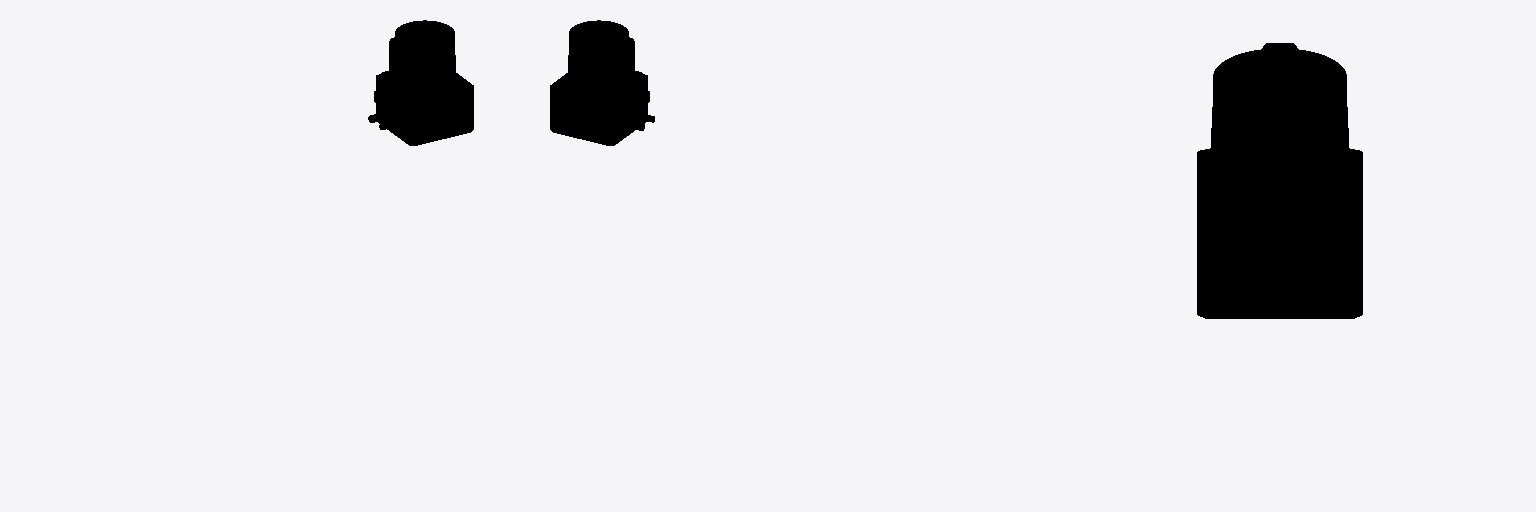
The robot description file, URDF, robot "myfirst":
<?xml version="1.0"?>
<robot name="myfirst">

  <material name="blue">
    <color rgba="0 0 1 0.75"/>
  </material>
  <material name="black">
    <color rgba="0 0 0 1"/>
  </material>

  <link name="odom">
    <visual>
      <geometry>
	<cylinder length="0" radius="0"/>
      </geometry>
    </visual>
  </link>
  
  <link name="base_link">
    <visual>
      <geometry>
	<mesh filename="package://testing/meshes/UGV.stl"/>
      </geometry>
      <origin xyz="0 0 0" rpy="0 0 0"/>      
      <material name="blue"/>
    </visual>
  </link>

  <link name="hokuyo_link">
    <visual>
      <geometry>
	<mesh filename="package://testing/meshes/Hokuyo.stl"/>
      </geometry>
      <origin xyz="0 0 0" rpy="0 0 0"/>      
      <material name="black"/>
    </visual>
  </link>

  <link name="laser">
    <visual>
      <geometry>
	<cylinder length="0" radius="0"/>
      </geometry>
    </visual>
  </link>
  
  <!-- _________________JOINTS____________________ -->

  <joint name="world_to_body" type="planar">
    <origin xyz="0 0 0.101" rpy="0 0 0" />
    <parent link="odom"/>
    <child link="base_link"/>

    <axis xyz="0 0 1"/>
  </joint>

  <joint name="robot_to_laser" type="fixed">
    <origin xyz="0.3 0 0.1" rpy="0 0 0" />
    <parent link="base_link"/>
    <child link="hokuyo_link"/>
  </joint>

  <joint name="Hokuyo_to_laser" type="fixed">
    <origin xyz="0 0 0.05" rpy="0 0 0" />
    <parent link="hokuyo_link"/>
    <child link="laser"/>
  </joint>

  
</robot>

--- Render facts (derived) ---
The picture shows the robot from 3 angles, left to right: view 1: azimuth 30°, elevation 25°; view 2: azimuth 150°, elevation 25°; view 3: azimuth 270°, elevation 25°; orthographic projection.
Robot: myfirst — 4 links, 3 joints (2 fixed, 1 planar); root link odom; default pose: all joints at 0.
Visible links, largest first — view 1: hokuyo_link; view 2: hokuyo_link; view 3: hokuyo_link.
Link boxes in pixels (x1,y1,x2,y2): hokuyo_link: [368, 20, 473, 145]; hokuyo_link: [550, 20, 654, 145]; hokuyo_link: [1197, 43, 1362, 318].
Bounding box of the posed robot: 0.325 × 0.05 × 0.271 m (x, y, z).
1 mesh visuals loaded from 2 distinct referenced files (1 binary STL); not drawn: 1 (reference not matched to a file when rendering).
